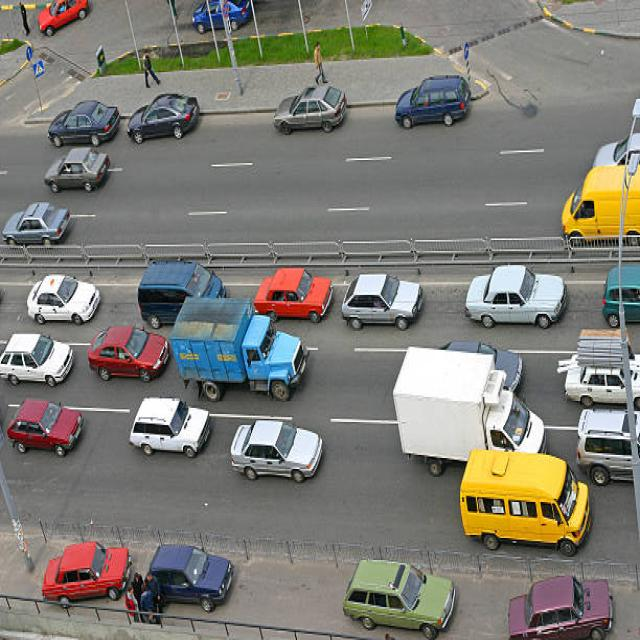moderate_traffic: (6, 257, 618, 630)
no-low traffic: (36, 71, 640, 244)
